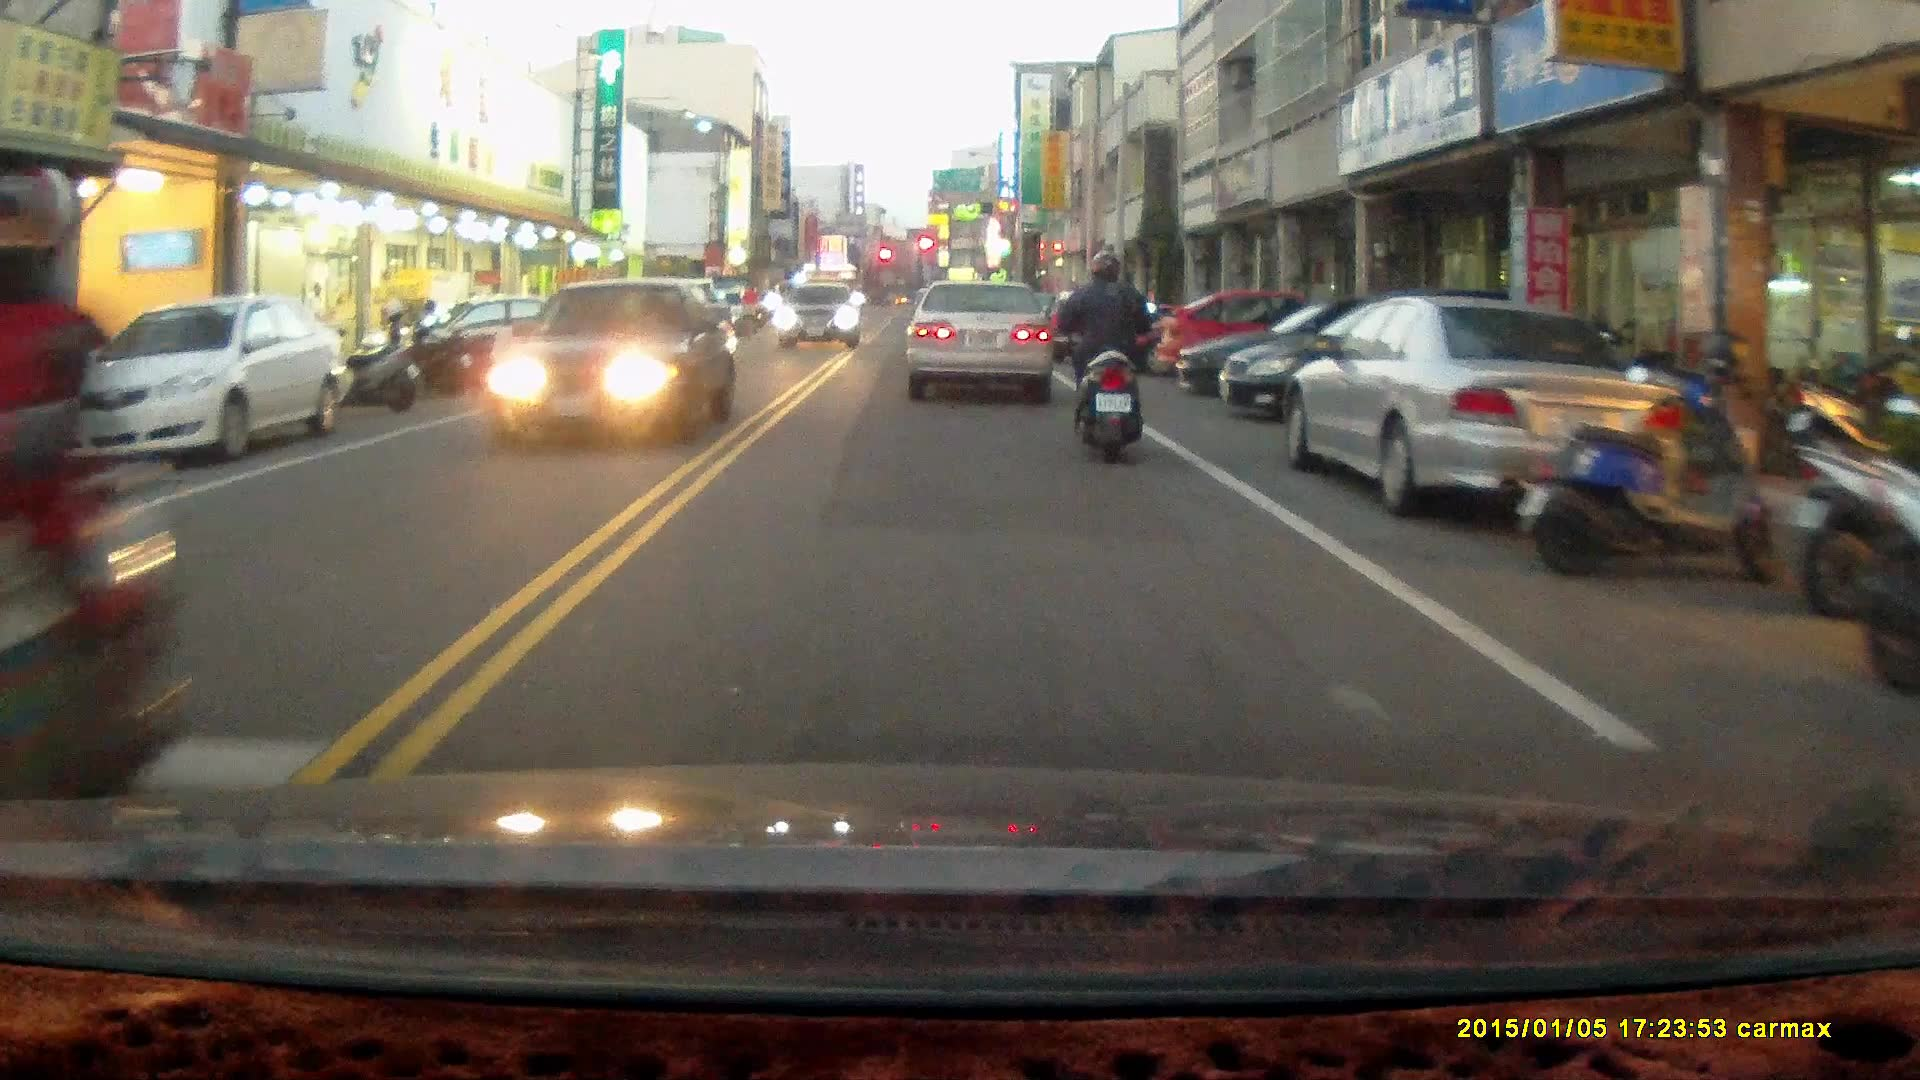pedestrian: (302, 281, 330, 355)
rider: (0, 168, 190, 850), (1051, 250, 1158, 463), (736, 280, 760, 339)
vehicle: (1283, 300, 1683, 526), (44, 291, 358, 466), (1216, 296, 1531, 438), (487, 279, 738, 455), (1171, 308, 1493, 401), (1155, 296, 1396, 389), (903, 281, 1056, 400), (405, 294, 588, 386), (774, 292, 863, 360)
